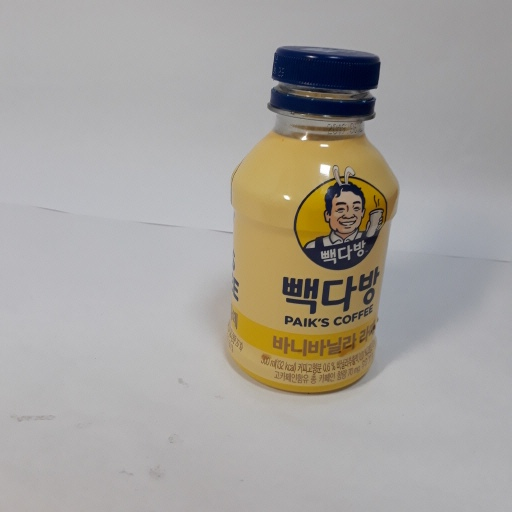Plastic_0: (224, 42, 401, 401)
